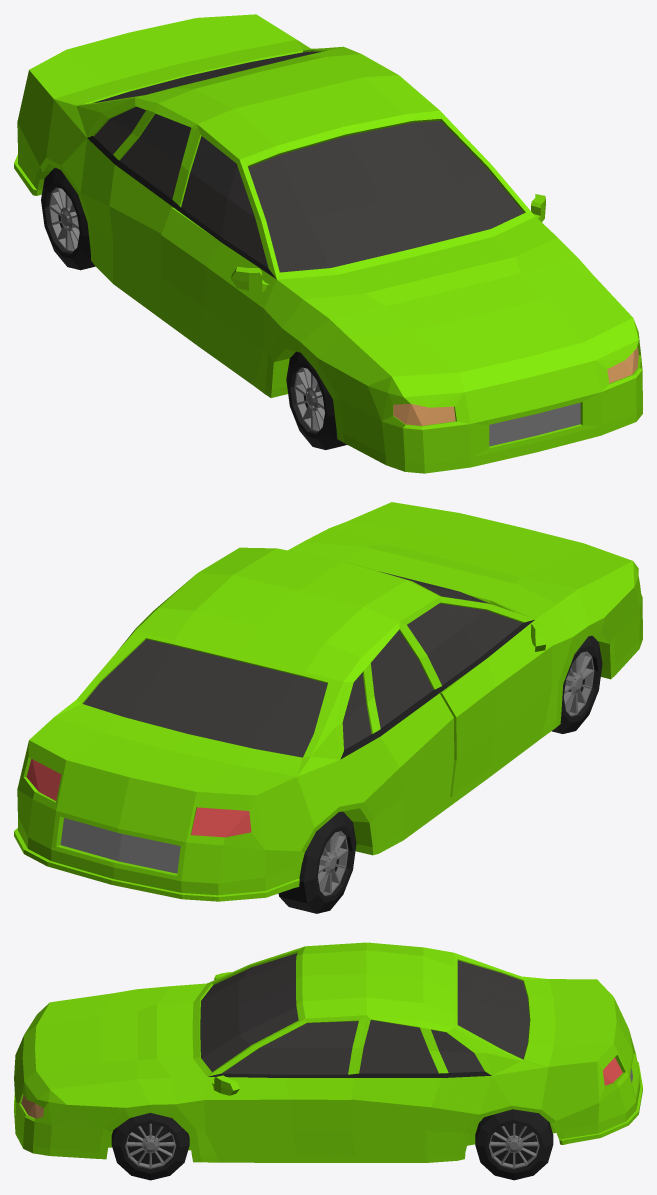
The model's file is green_car.glb.
The picture shows the model from 3 angles, top to bottom: view 1: azimuth 30°, elevation 25°; view 2: azimuth 150°, elevation 25°; view 3: azimuth 270°, elevation 25°; orthographic projection. The views are drawn at different scales.
Visible parts, largest first — view 1: NormalCar1; view 2: NormalCar1; view 3: NormalCar1.
Boxes of the visible parts, x1,y1,x2,y2 form: NormalCar1: (14,14,642,473); NormalCar1: (14,502,642,913); NormalCar1: (14,942,642,1180).
Bounding box in the file's own units: 1.81 × 1.18 × 4.22.
Materials: 1 (1 with a texture image).
